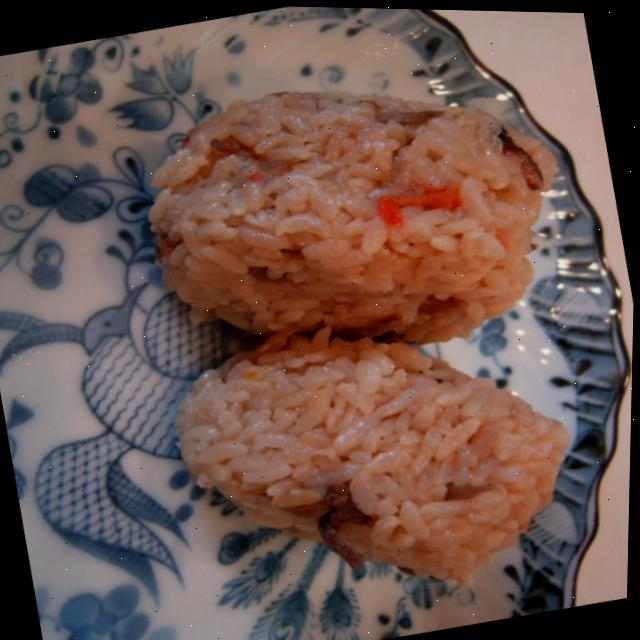米饭主食: (154, 272, 627, 634), (119, 45, 599, 395)
